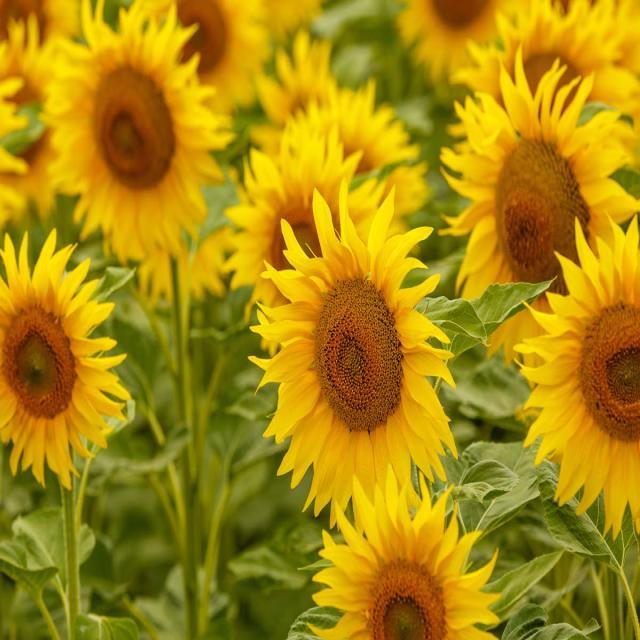sunflower: (247, 176, 459, 532), (438, 46, 638, 388), (38, 0, 232, 264), (512, 213, 639, 541), (222, 101, 382, 357), (0, 227, 131, 490), (305, 464, 502, 638), (455, 0, 639, 130), (310, 78, 432, 252), (124, 0, 270, 116), (138, 162, 244, 306), (0, 11, 63, 227), (396, 0, 538, 83), (248, 26, 337, 158), (0, 1, 79, 50)
